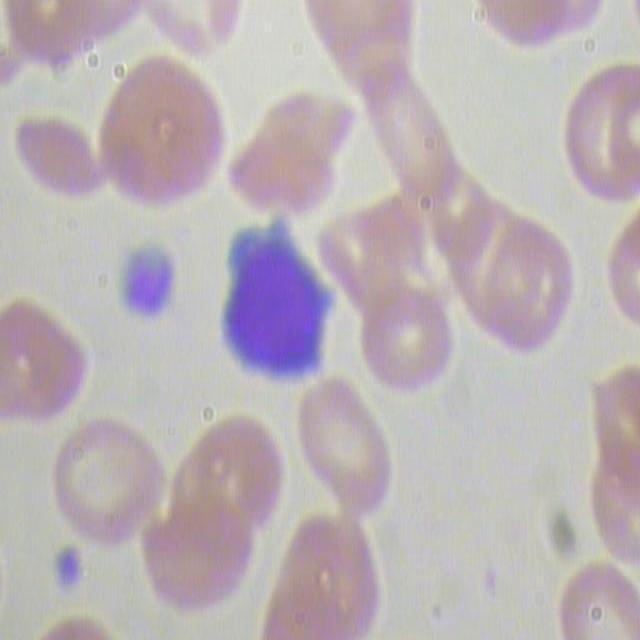Platelets: (106, 228, 181, 325), (51, 534, 89, 594)
RBC: (97, 52, 230, 213), (46, 404, 171, 551), (289, 378, 396, 522), (357, 279, 454, 393), (1, 298, 89, 422), (13, 113, 99, 208)
WBC: (218, 213, 332, 399)
